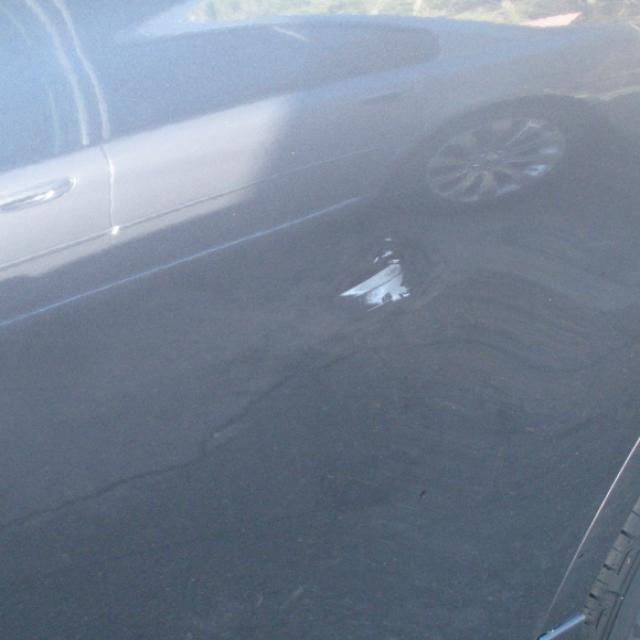dents: (327, 209, 466, 334)
